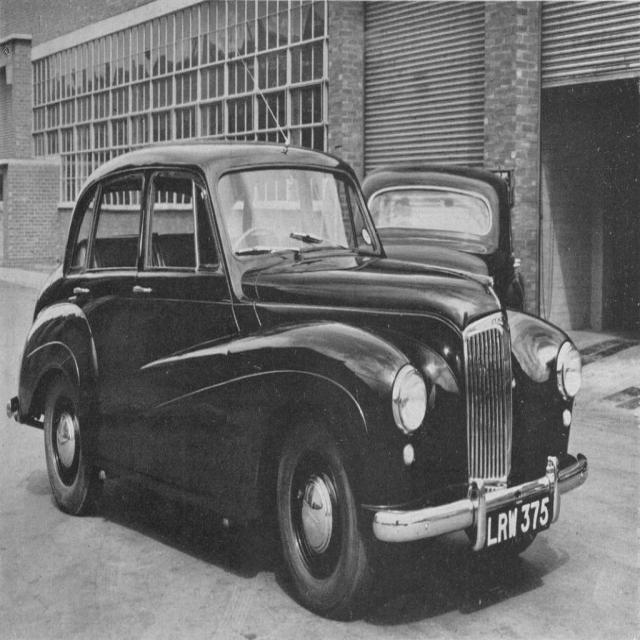car: (6, 43, 587, 625)
